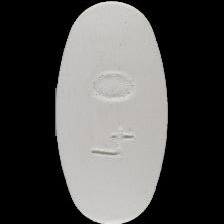43353-182: (0, 0, 224, 224)
